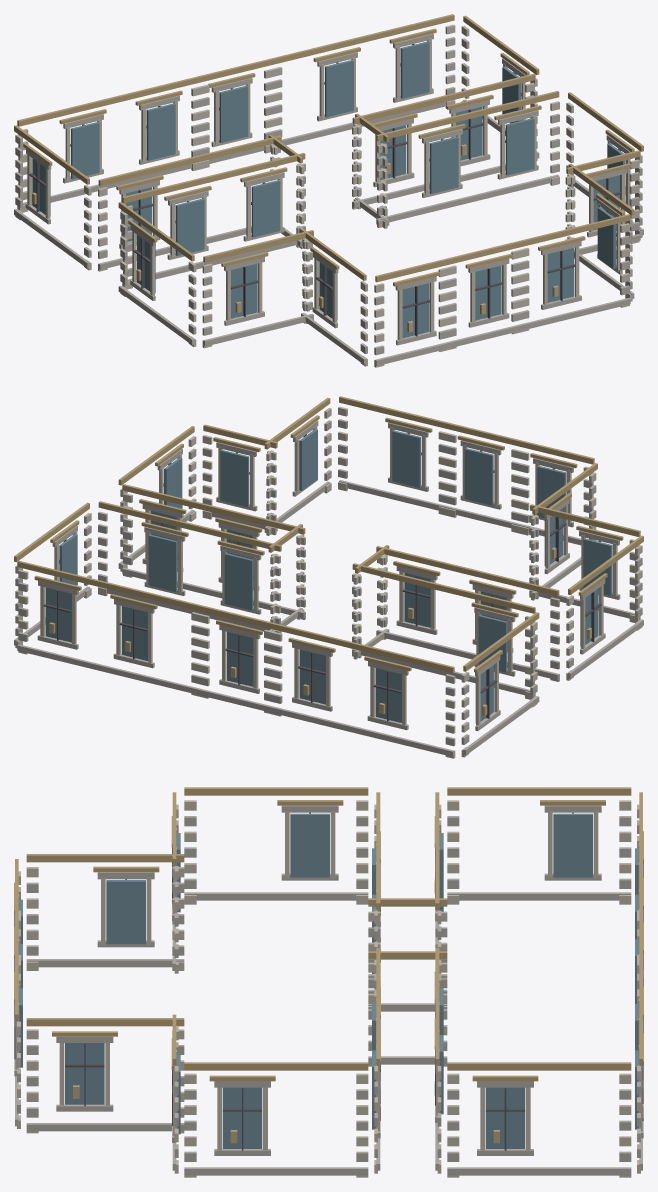
Rendered from exterior_facade_floor_01.glb.
3 views of the same model, one above another, from view 1: azimuth 30°, elevation 25°; view 2: azimuth 150°, elevation 25°; view 3: azimuth 270°, elevation 25° (orthographic). The views are drawn at different scales.
Visible parts, largest first — view 1: EXT-f1-e17-window0-glazing, EXT-f1-e19-window0-glazing, EXT-f1-e13-window1-glazing, EXT-f1-e3-window0-glazing, EXT-f1-e13-window0-glazing, EXT-f1-e18-window0-glazing, EXT-f1-e17-window1-glazing, EXT-f1-e3-window1-glazing, EXT-f1-e19-window1-glazing, EXT-f1-e19-continuous-cornice-2.888, EXT-f1-e17-continuous-cornice-2.888, EXT-f1-e3-continuous-cornice-2.888 (+38 smaller); view 2: EXT-f1-e15-window0-glazing, EXT-f1-e8-window0-glazing, EXT-f1-e11-window0-glazing, EXT-f1-e15-window1-glazing, EXT-f1-e9-window0-glazing, EXT-f1-e19-continuous-cornice-0.2, EXT-f1-e19-continuous-cornice-2.888, EXT-f1-e17-continuous-cornice-0.2, EXT-f1-e17-continuous-cornice-2.888, EXT-f1-e15-continuous-cornice-2.888, EXT-f1-e1-continuous-cornice-2.888, EXT-f1-e3-continuous-cornice-2.888 (+35 smaller); view 3: EXT-f1-e4-window0-glazing, EXT-f1-e6-window0-glazing, EXT-f1-e20-window0-glazing, EXT-f1-e12-window0-glazing, EXT-f1-e16-window0-glazing, EXT-f1-e10-window0-glazing, EXT-f1-e4-continuous-cornice-2.888, EXT-f1-e12-continuous-cornice-0.2, EXT-f1-e12-continuous-cornice-2.888, EXT-f1-e16-continuous-cornice-0.2, EXT-f1-e16-continuous-cornice-2.888, EXT-f1-e20-continuous-cornice-2.888 (+13 smaller).
Part boxes in pixels (<box>): EXT-f1-e17-window0-glazing: <box>400,41,429,98</box>; EXT-f1-e19-window0-glazing: <box>146,103,175,160</box>; EXT-f1-e13-window1-glazing: <box>429,136,458,193</box>; EXT-f1-e3-window0-glazing: <box>251,180,280,237</box>; EXT-f1-e13-window0-glazing: <box>505,118,534,175</box>; EXT-f1-e18-window0-glazing: <box>219,85,248,142</box>; EXT-f1-e17-window1-glazing: <box>325,60,353,117</box>; EXT-f1-e3-window1-glazing: <box>175,198,204,255</box>; EXT-f1-e19-window1-glazing: <box>71,122,99,179</box>; EXT-f1-e19-continuous-cornice-2.888: <box>17,76,200,126</box>; EXT-f1-e17-continuous-cornice-2.888: <box>272,14,454,64</box>; EXT-f1-e3-continuous-cornice-2.888: <box>122,153,305,203</box>; EXT-f1-e15-window0-glazing: <box>224,553,253,610</box>; EXT-f1-e8-window0-glazing: <box>464,448,493,505</box>; EXT-f1-e11-window0-glazing: <box>220,450,249,507</box>; EXT-f1-e15-window1-glazing: <box>148,534,177,591</box>; EXT-f1-e9-window0-glazing: <box>392,430,420,487</box>; EXT-f1-e19-continuous-cornice-0.2: <box>271,706,454,756</box>; EXT-f1-e19-continuous-cornice-2.888: <box>271,622,454,673</box>; EXT-f1-e17-continuous-cornice-0.2: <box>17,644,199,694</box>; EXT-f1-e17-continuous-cornice-2.888: <box>17,560,199,611</box>; EXT-f1-e15-continuous-cornice-2.888: <box>98,501,281,551</box>; EXT-f1-e1-continuous-cornice-2.888: <box>352,563,535,613</box>; EXT-f1-e3-continuous-cornice-2.888: <box>376,546,559,596</box>; EXT-f1-e4-window0-glazing: <box>290,813,329,877</box>; EXT-f1-e6-window0-glazing: <box>106,880,145,944</box>; EXT-f1-e20-window0-glazing: <box>553,813,592,877</box>; EXT-f1-e12-window0-glazing: <box>222,1087,262,1148</box>; EXT-f1-e16-window0-glazing: <box>485,1087,525,1148</box>; EXT-f1-e10-window0-glazing: <box>65,1043,104,1104</box>; EXT-f1-e4-continuous-cornice-2.888: <box>184,787,368,795</box>; EXT-f1-e12-continuous-cornice-0.2: <box>184,1167,368,1175</box>; EXT-f1-e12-continuous-cornice-2.888: <box>184,1062,368,1070</box>; EXT-f1-e16-continuous-cornice-0.2: <box>447,1167,631,1175</box>; EXT-f1-e16-continuous-cornice-2.888: <box>447,1062,631,1070</box>; EXT-f1-e20-continuous-cornice-2.888: <box>447,787,631,795</box>.
Size of the model in its own units: 15.22 by 2.93 by 14.61.
